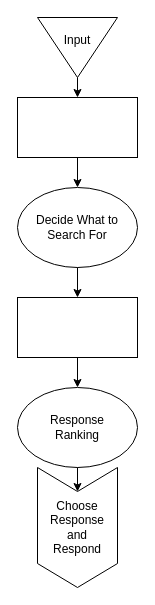
This 155x605 diagram has some shape labels left out. The box of each missing label's shape, as (x1, y1, x2, y2) in pixels:
Query Twitter: (16, 296, 138, 358)
Unsupervised Classifier on Input: (16, 96, 138, 158)
